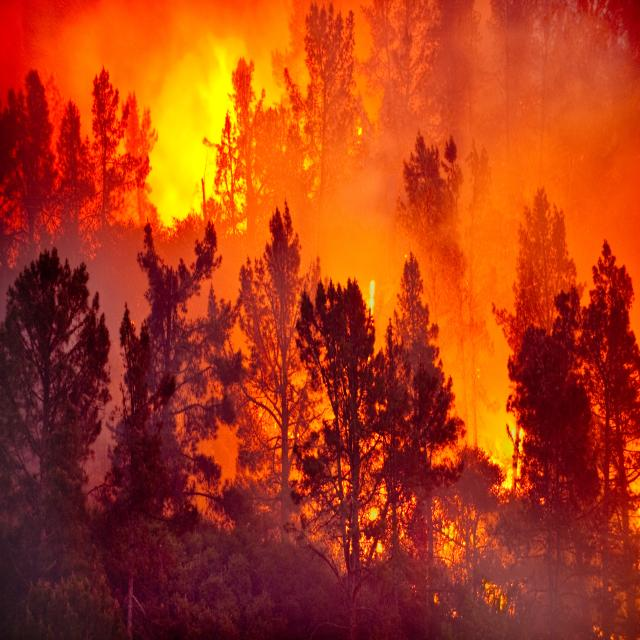Fire: (3, 4, 640, 607)
